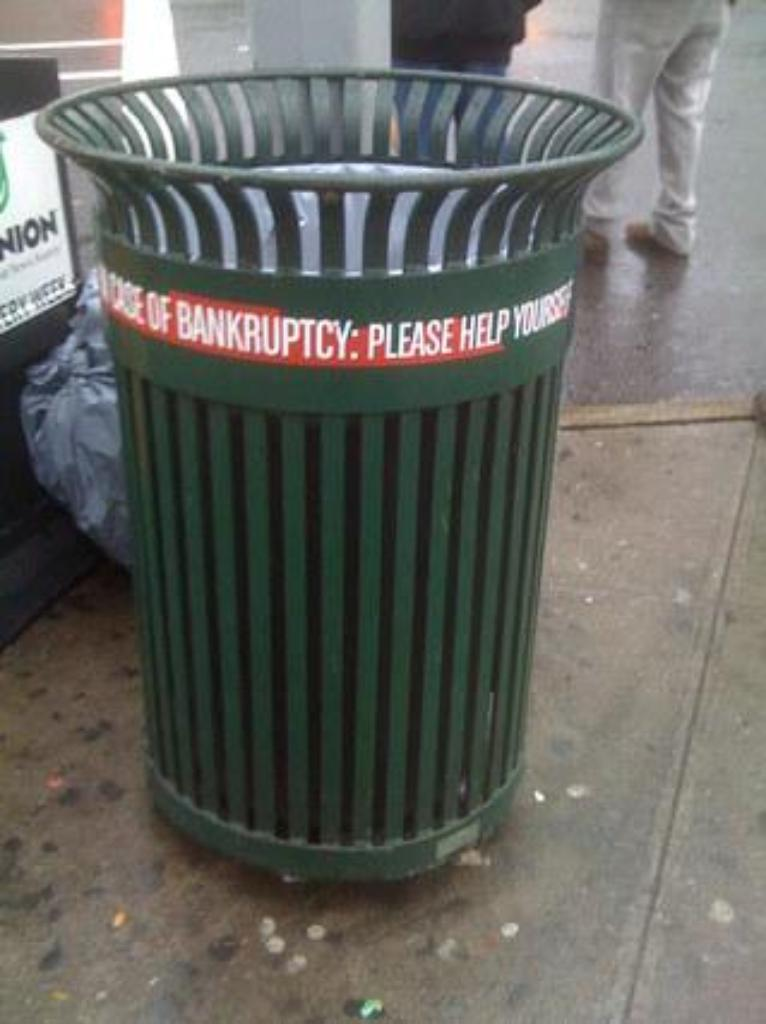dustbin: (30, 72, 667, 898)
